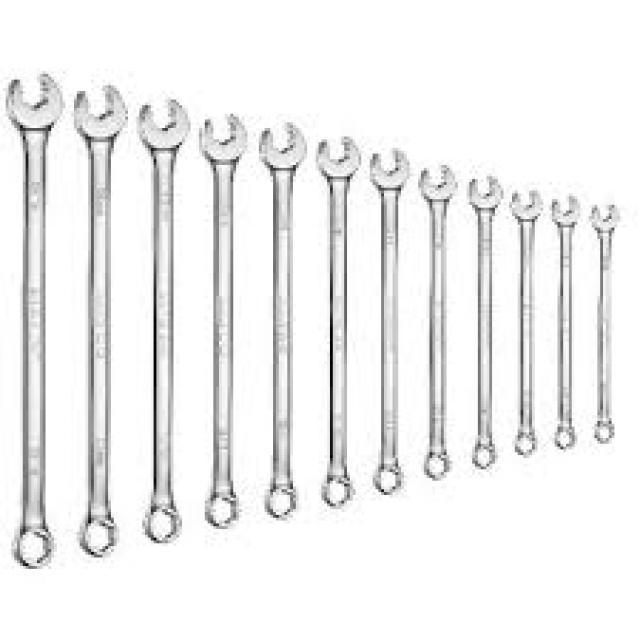wrench: (1, 68, 66, 574), (71, 79, 130, 562), (135, 90, 193, 550), (196, 108, 252, 533), (256, 116, 312, 525), (312, 131, 367, 512), (364, 144, 414, 500), (418, 159, 462, 486), (466, 170, 508, 476), (504, 186, 546, 462), (547, 191, 588, 452), (588, 199, 624, 448)
